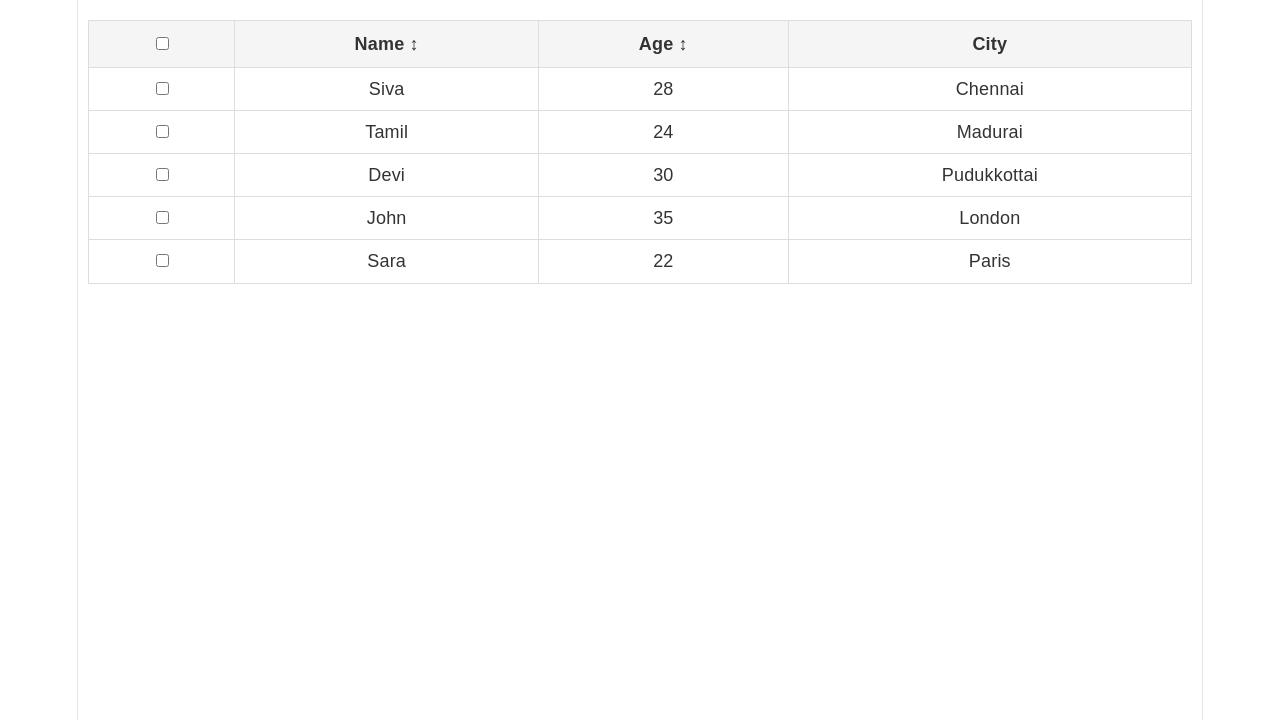
Test: DataTable › select-all toggles all rows
Click the checkbox in the row of "Name" at [162, 44], box 156,37 -> 169,50
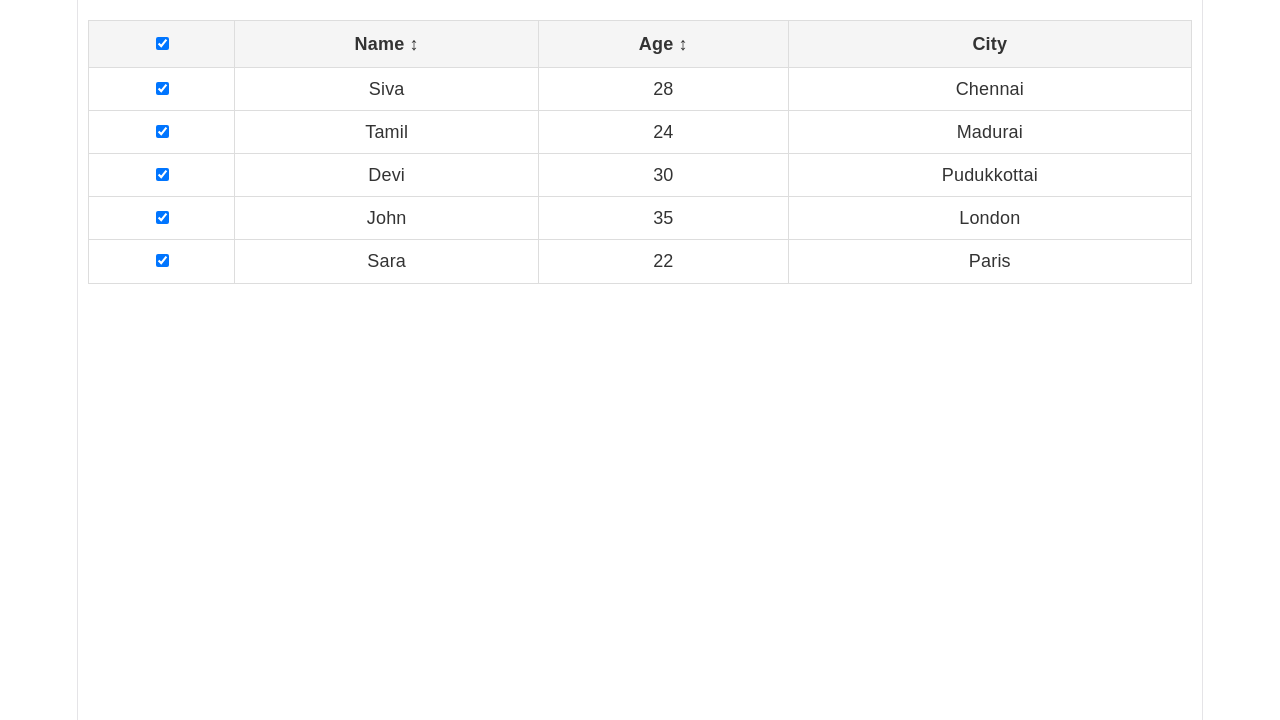
Result: the checkbox in the row of "Siva" is checked at 156,82 -> 169,95
Result: the checkbox in the row of "Tamil" is checked at 156,125 -> 169,138
Result: the checkbox in the row of "Devi" is checked at 156,168 -> 169,181
Click the checkbox in the row of "Name" at [162, 44], box 156,37 -> 169,50
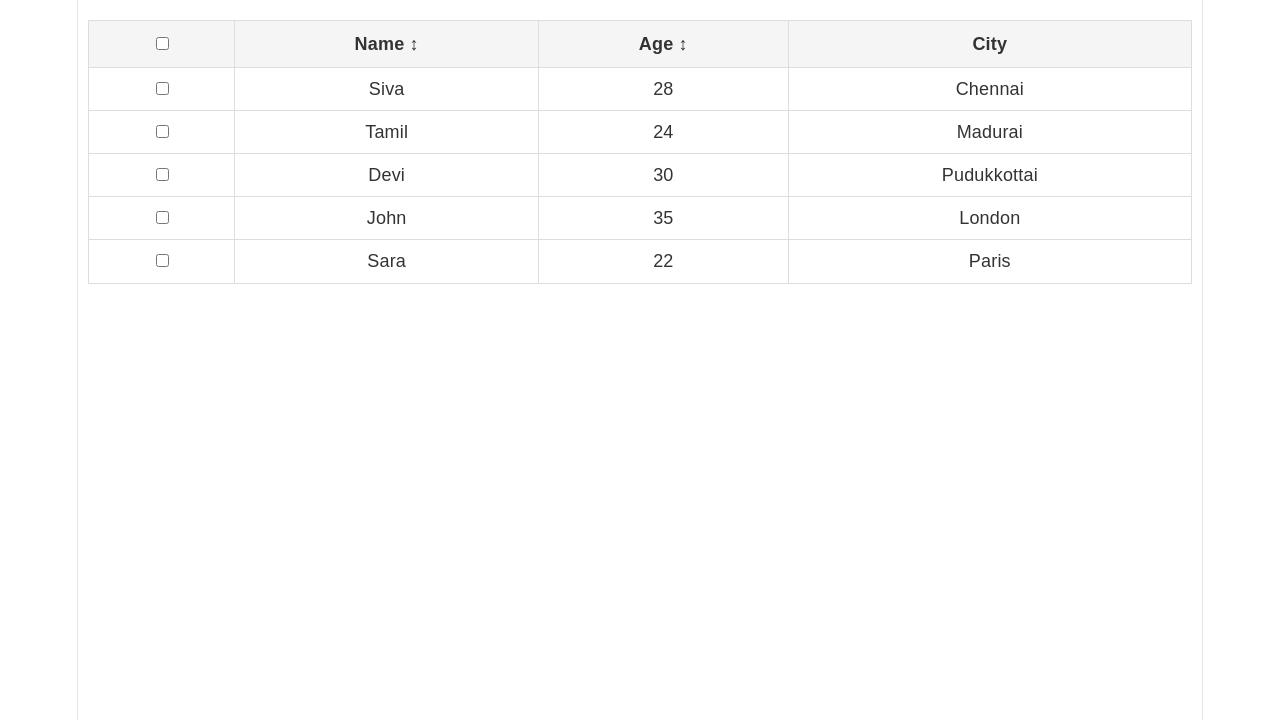
Result: the checkbox in the row of "Siva" is not checked at 156,82 -> 169,95
Result: the checkbox in the row of "Tamil" is not checked at 156,125 -> 169,138
Result: the checkbox in the row of "Devi" is not checked at 156,168 -> 169,181
